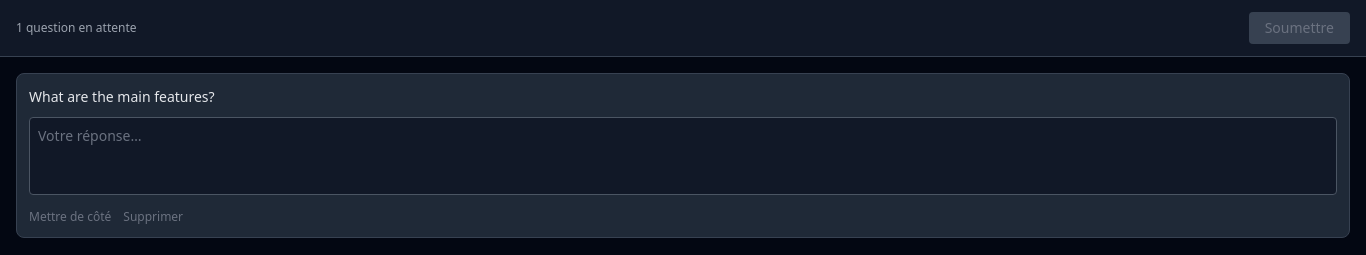
Scenario: QuestionsPanel — batch submit › submit button enabled when at least one answer filled
Step 1. Type "My answer" into the text box → (683, 156), box top-left (29, 117), bottom-right (1337, 195)
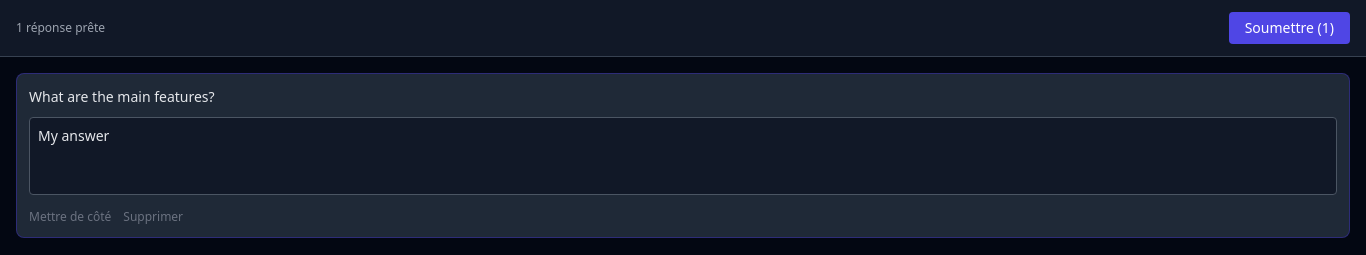
Expected: the button "Soumettre (1)" is enabled, top-left (1229, 12), bottom-right (1350, 44)
